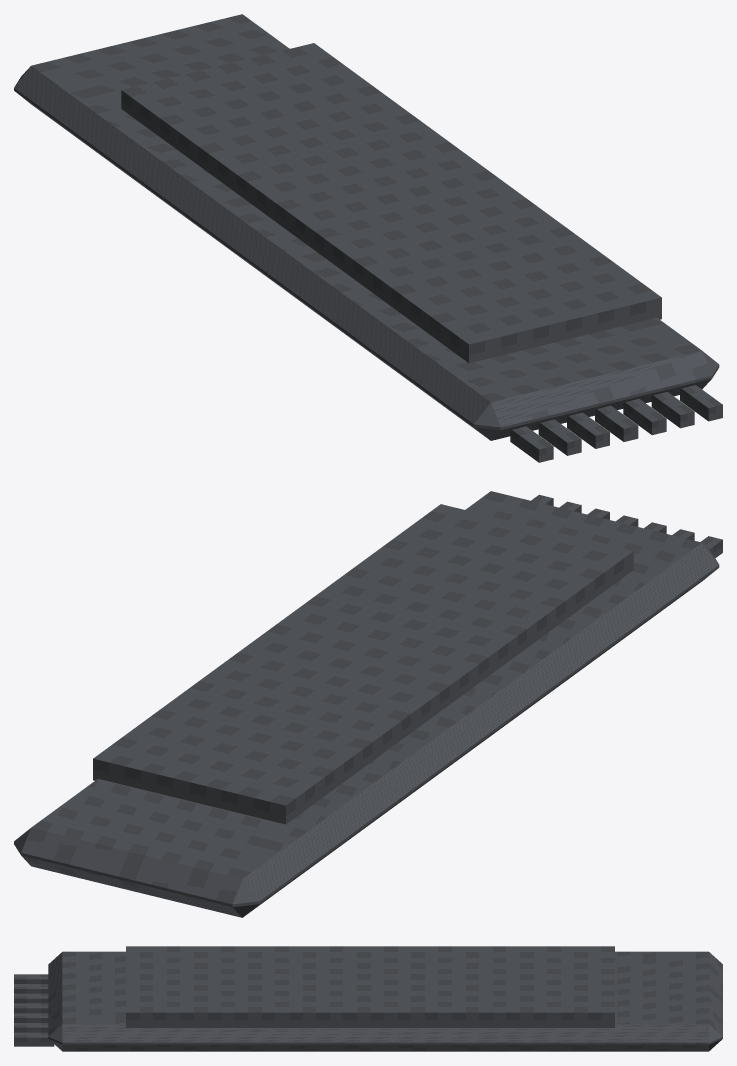
Rendered from long_knit_scarf_loose.glb.
The picture shows the model from 3 angles, top to bottom: view 1: azimuth 30°, elevation 25°; view 2: azimuth 150°, elevation 25°; view 3: azimuth 270°, elevation 25°; orthographic projection. The views are drawn at different scales.
Visible parts, largest first — view 1: block_overlapping fold, block_loose folded scarf, block_fringe (×7); view 2: block_overlapping fold, block_loose folded scarf; view 3: block_overlapping fold, block_loose folded scarf, block_fringe (×7).
Part boxes in pixels (<box>): block_overlapping fold: <box>121,43,661,363</box>; block_loose folded scarf: <box>14,14,719,440</box>; block_fringe (×7): <box>510,385,722,462</box>; block_overlapping fold: <box>93,504,633,824</box>; block_loose folded scarf: <box>14,491,719,917</box>; block_overlapping fold: <box>126,946,614,1027</box>; block_loose folded scarf: <box>48,951,722,1051</box>; block_fringe (×7): <box>14,974,54,1046</box>.
Bounding box in the file's own units: 0.08 × 0.0179 × 0.2844.
Materials: 1 (1 with a texture image).
